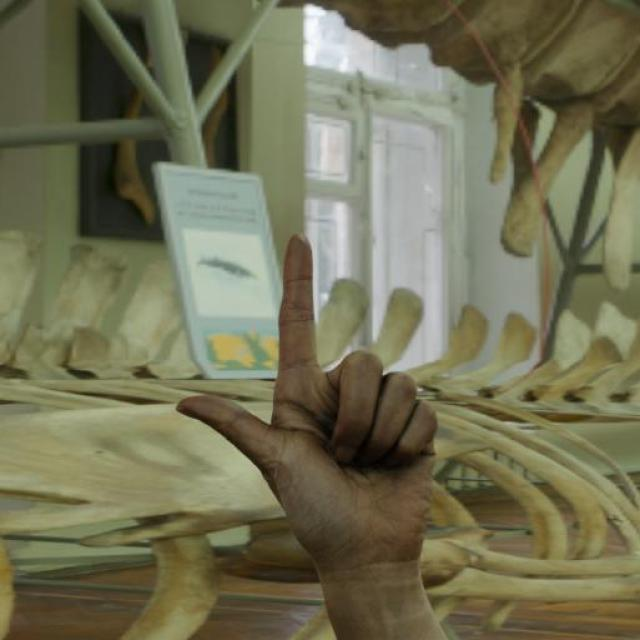L: (172, 232, 444, 564)
